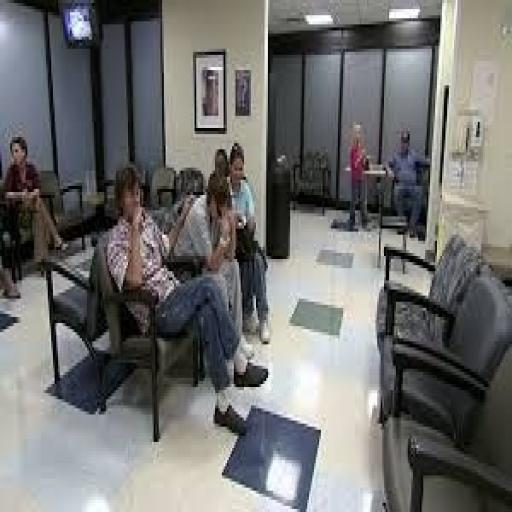sitting: (100, 158, 270, 436), (2, 131, 68, 277)
